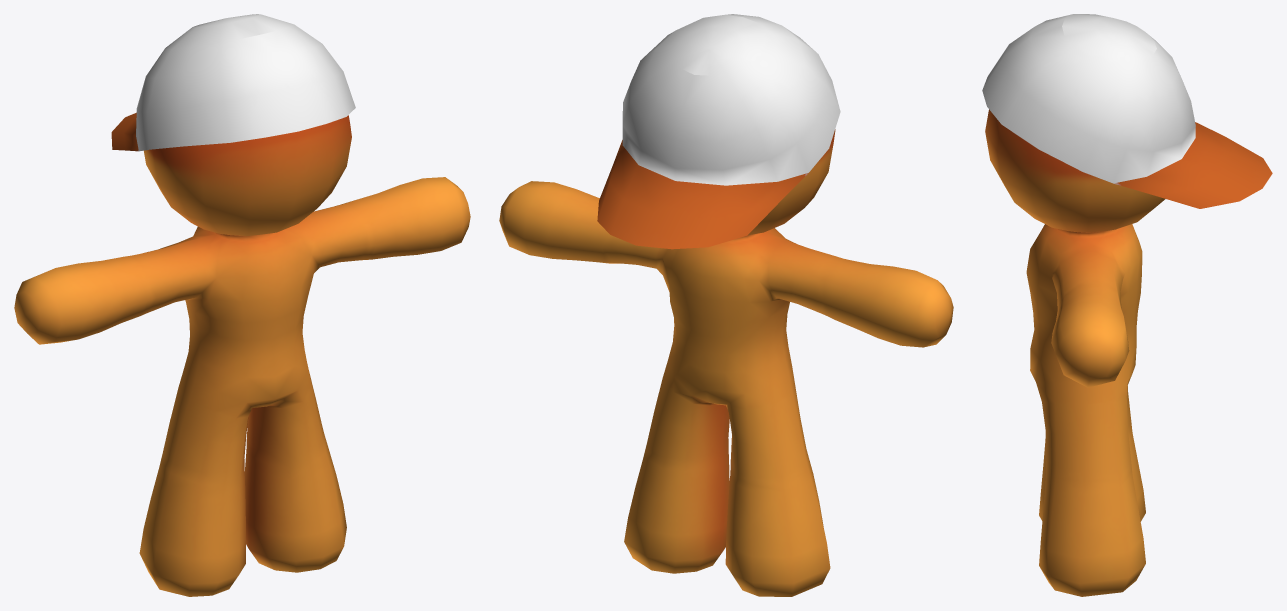
The model's file is Model_Stickman_Orange.fbx.
The picture shows the model from 3 angles, left to right: view 1: azimuth 30°, elevation 25°; view 2: azimuth 150°, elevation 25°; view 3: azimuth 270°, elevation 25°; orthographic projection. The views are drawn at different scales.
Parts seen in each view (by area): view 1: Model_Stickman_Orange; view 2: Model_Stickman_Orange; view 3: Model_Stickman_Orange.
Boxes of the visible parts, <box> form: Model_Stickman_Orange: <box>14,14,470,596</box>; Model_Stickman_Orange: <box>499,14,953,596</box>; Model_Stickman_Orange: <box>982,14,1272,596</box>.
Bounding box in the file's own units: 218 × 258 × 127.
